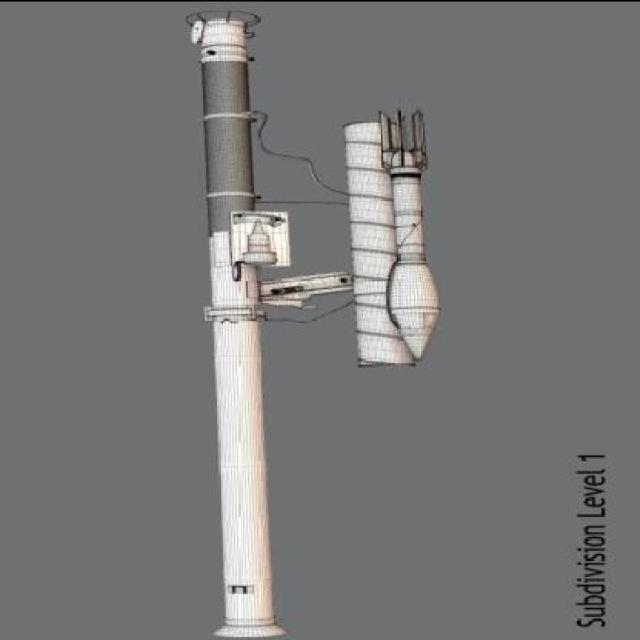weapon: (182, 8, 440, 639)
